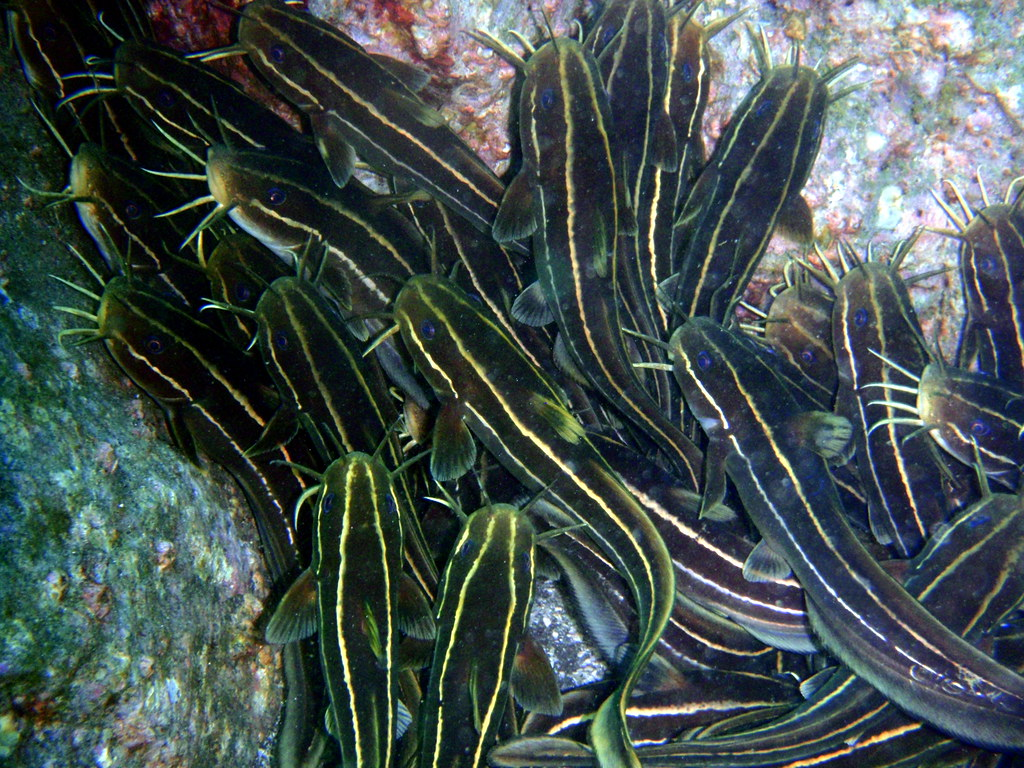gonzui: (304, 447, 396, 768)
